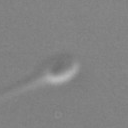normal: (1, 69, 42, 105)
